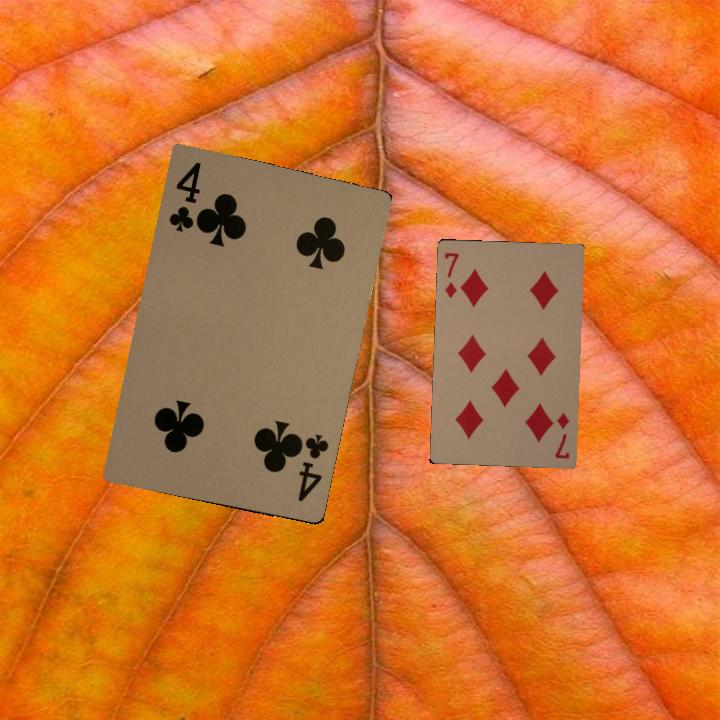4c: (165, 158, 204, 235), (292, 430, 332, 505)
7d: (551, 408, 572, 461), (441, 248, 461, 300)
